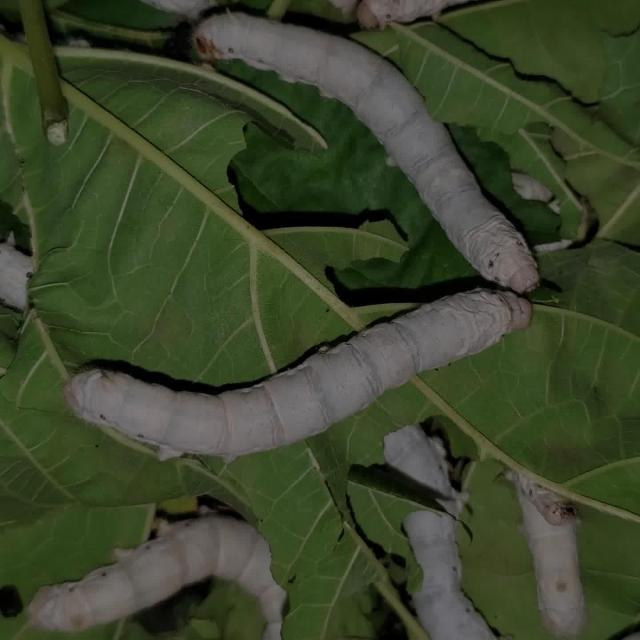Healthy: (42, 0, 566, 472)
